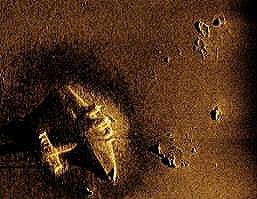aircraft: (36, 84, 128, 185)
